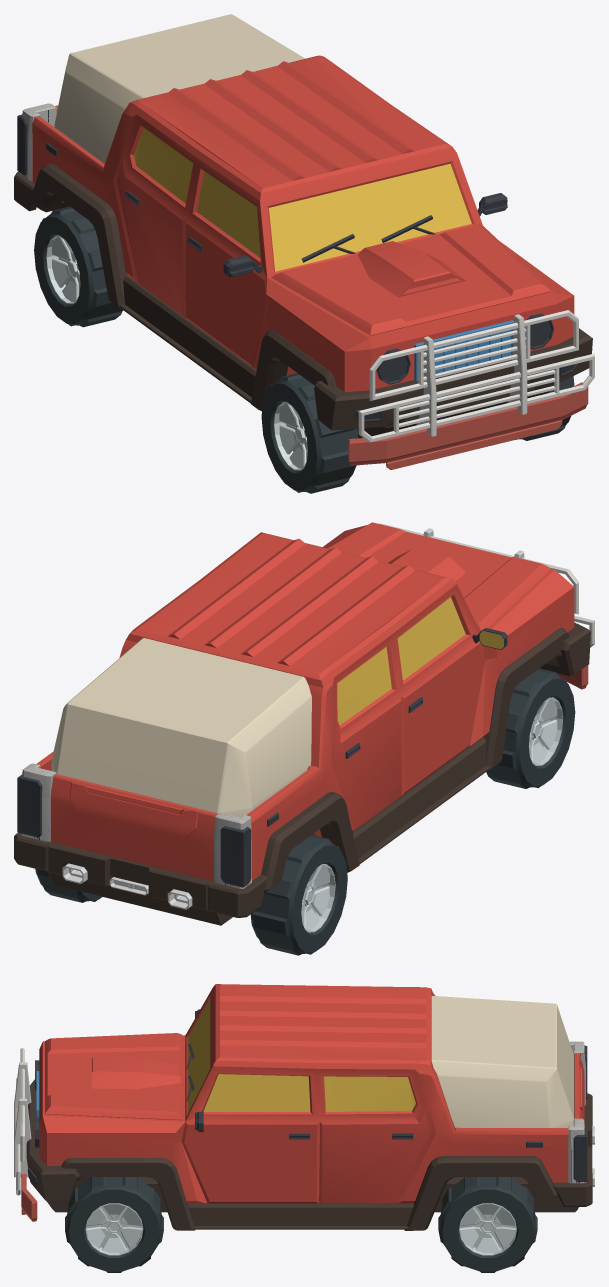
Rendered from car_05.gltf.
3 views of the same model, one above another, from view 1: azimuth 30°, elevation 25°; view 2: azimuth 150°, elevation 25°; view 3: azimuth 270°, elevation 25° (orthographic). The views are drawn at different scales.
Parts seen in each view (by area): view 1: body, wheel_20, wheel_8, wheel_18, wheel_6; view 2: body, wheel_20, wheel_8, wheel_18, wheel_6; view 3: body, wheel_14, wheel_26, wheel_12, wheel_24.
Part boxes in pixels (left/top/right/bottom): body: left=14, top=14, right=594, bottom=493; wheel_20: left=34, top=217, right=89, bottom=324; wheel_8: left=261, top=383, right=316, bottom=490; wheel_18: left=41, top=214, right=93, bottom=325; wheel_6: left=269, top=380, right=321, bottom=492; body: left=14, top=522, right=594, bottom=955; wheel_20: left=292, top=845, right=347, bottom=952; wheel_8: left=519, top=678, right=575, bottom=785; wheel_18: left=288, top=842, right=340, bottom=953; wheel_6: left=515, top=675, right=567, bottom=787; body: left=14, top=984, right=594, bottom=1272; wheel_14: left=69, top=1189, right=159, bottom=1271; wheel_26: left=442, top=1189, right=533, bottom=1271; wheel_12: left=67, top=1187, right=161, bottom=1271; wheel_24: left=440, top=1187, right=535, bottom=1271.
Size of the model in its own units: 2.38 by 2.03 by 5.21.
Materials: 1 (1 with a texture image).
